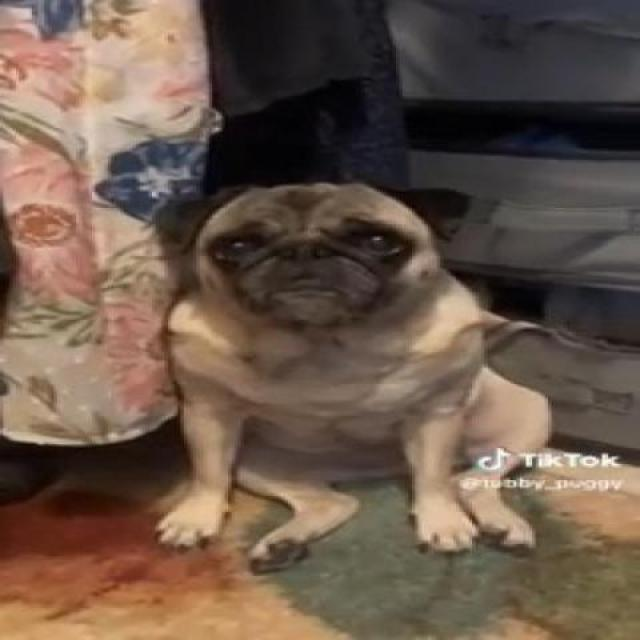dog: (154, 156, 486, 353)
